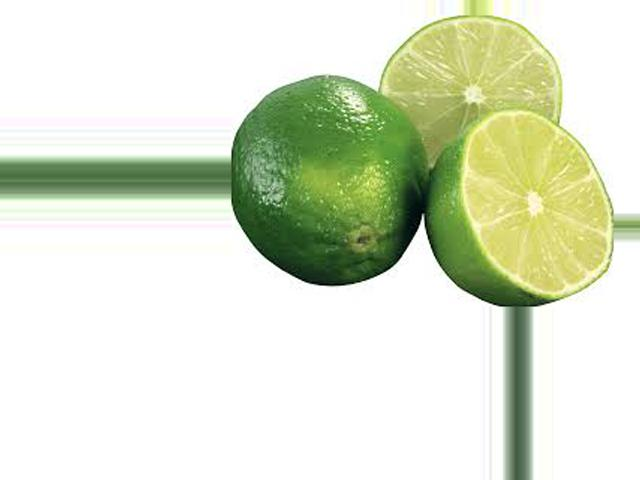lemon: (231, 78, 437, 278)
